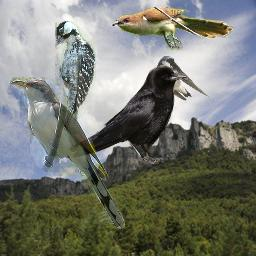Crow: (67, 65, 188, 164)
Cuckoo: (10, 77, 125, 229), (111, 7, 234, 50)
Swallow: (154, 55, 209, 101)
Woodpecker: (55, 21, 96, 131)
